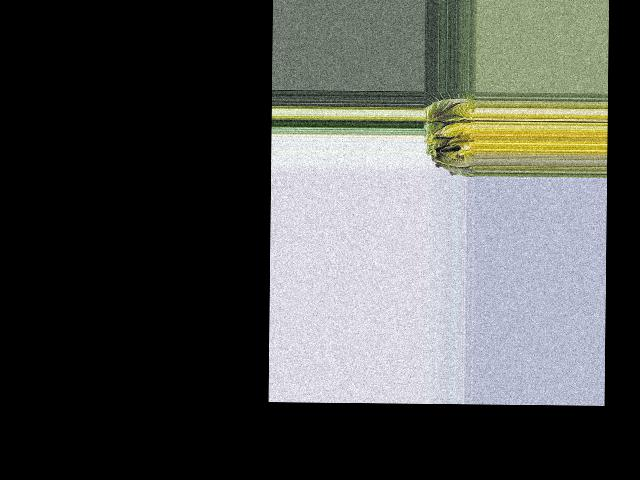lettuce: (425, 91, 476, 174)
